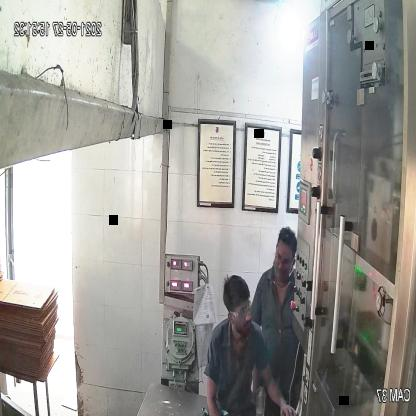goggles: (224, 296, 254, 320)
